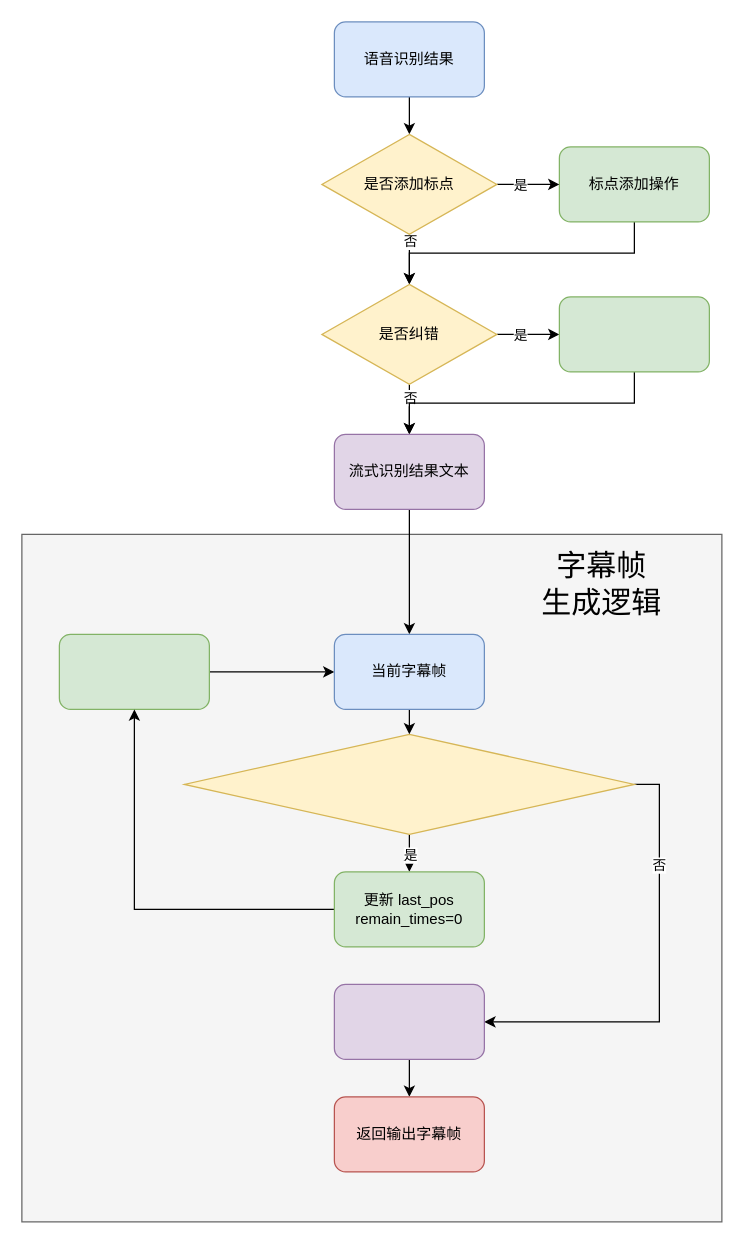
The diagram is 744 pixels wide and 1244 high, and some of its shapes have lost their labels. The centre of each missing label's shape, as x and y in pixels:
"上一字幕帧 结束位置 （last_pos）" belongs at pixel 133 671.
"当前字幕帧长度 > 字幕帧最大长度 || 相同内容字幕帧持续时间(remain_times) > 1.5s" belongs at pixel 408 783.
"移除字幕帧开始位置的标点符号" belongs at pixel 408 1021.
"纠错操作" belongs at pixel 633 334.
